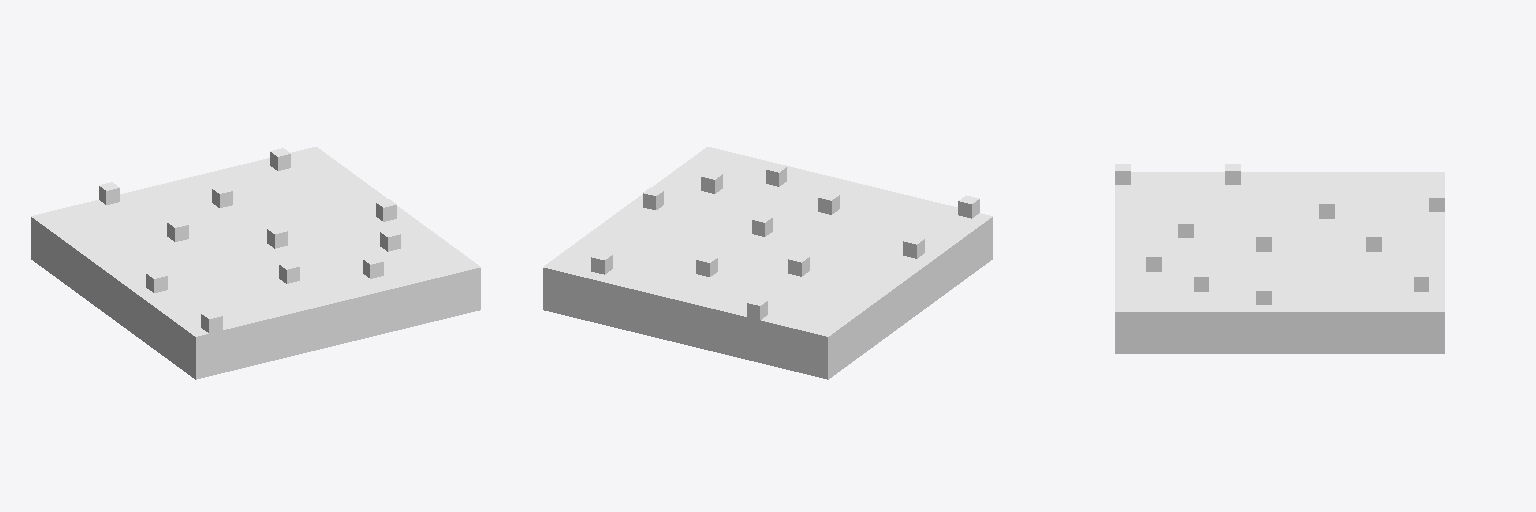
The model's file is grass2.obj.
The picture shows the model from 3 angles: view 1: azimuth 30°, elevation 25°; view 2: azimuth 150°, elevation 25°; view 3: azimuth 270°, elevation 25°; orthographic projection.
Bounding box in the file's own units: 21 × 4 × 21.